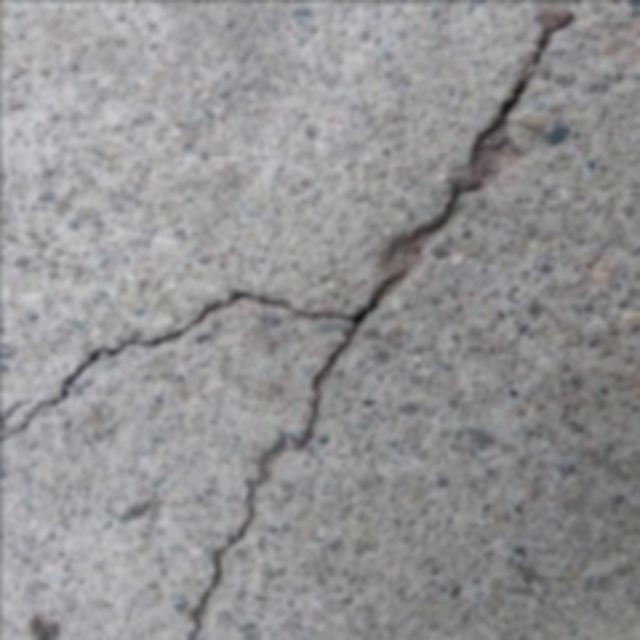SurfaceCrack: (144, 0, 582, 640), (0, 262, 400, 460)
